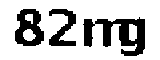2: (48, 7, 80, 49)
8: (14, 7, 44, 47)
g: (118, 16, 150, 60)
n: (80, 13, 116, 50)
